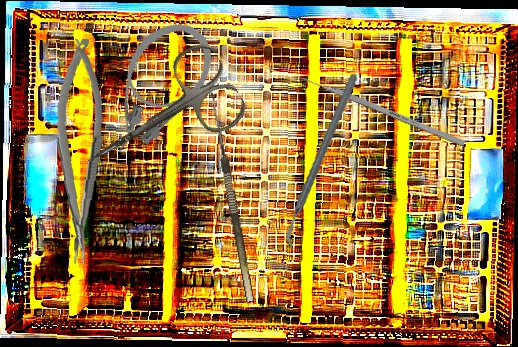Cannula: (79, 7, 229, 168)
Chopper: (230, 72, 414, 252)
Hook Surgical: (197, 91, 255, 305)
Iris Scissors: (64, 37, 253, 199)
Needle Holder: (49, 37, 108, 266)
Pusher: (289, 70, 466, 147)
